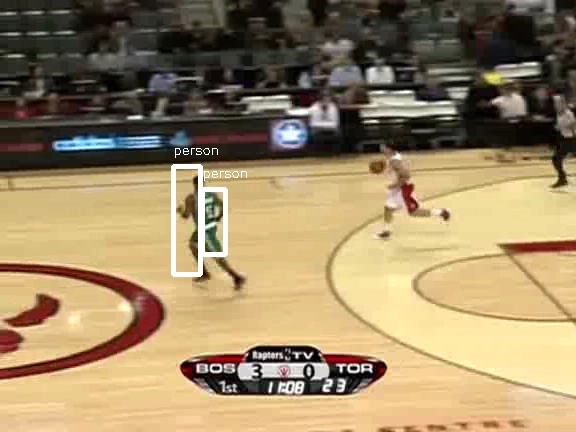person: (190, 182, 224, 263), (189, 182, 223, 263), (191, 182, 225, 263), (190, 181, 224, 262), (190, 183, 224, 264)
target_negative: (248, 84, 479, 186), (371, 168, 567, 224), (218, 408, 447, 423), (90, 177, 425, 179), (81, 429, 414, 430), (407, 313, 427, 322)
